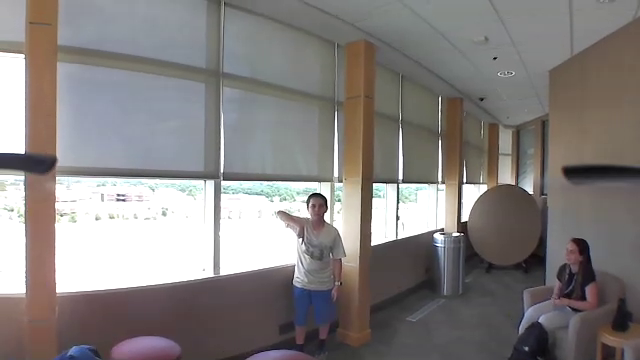down: (292, 222, 310, 245)
